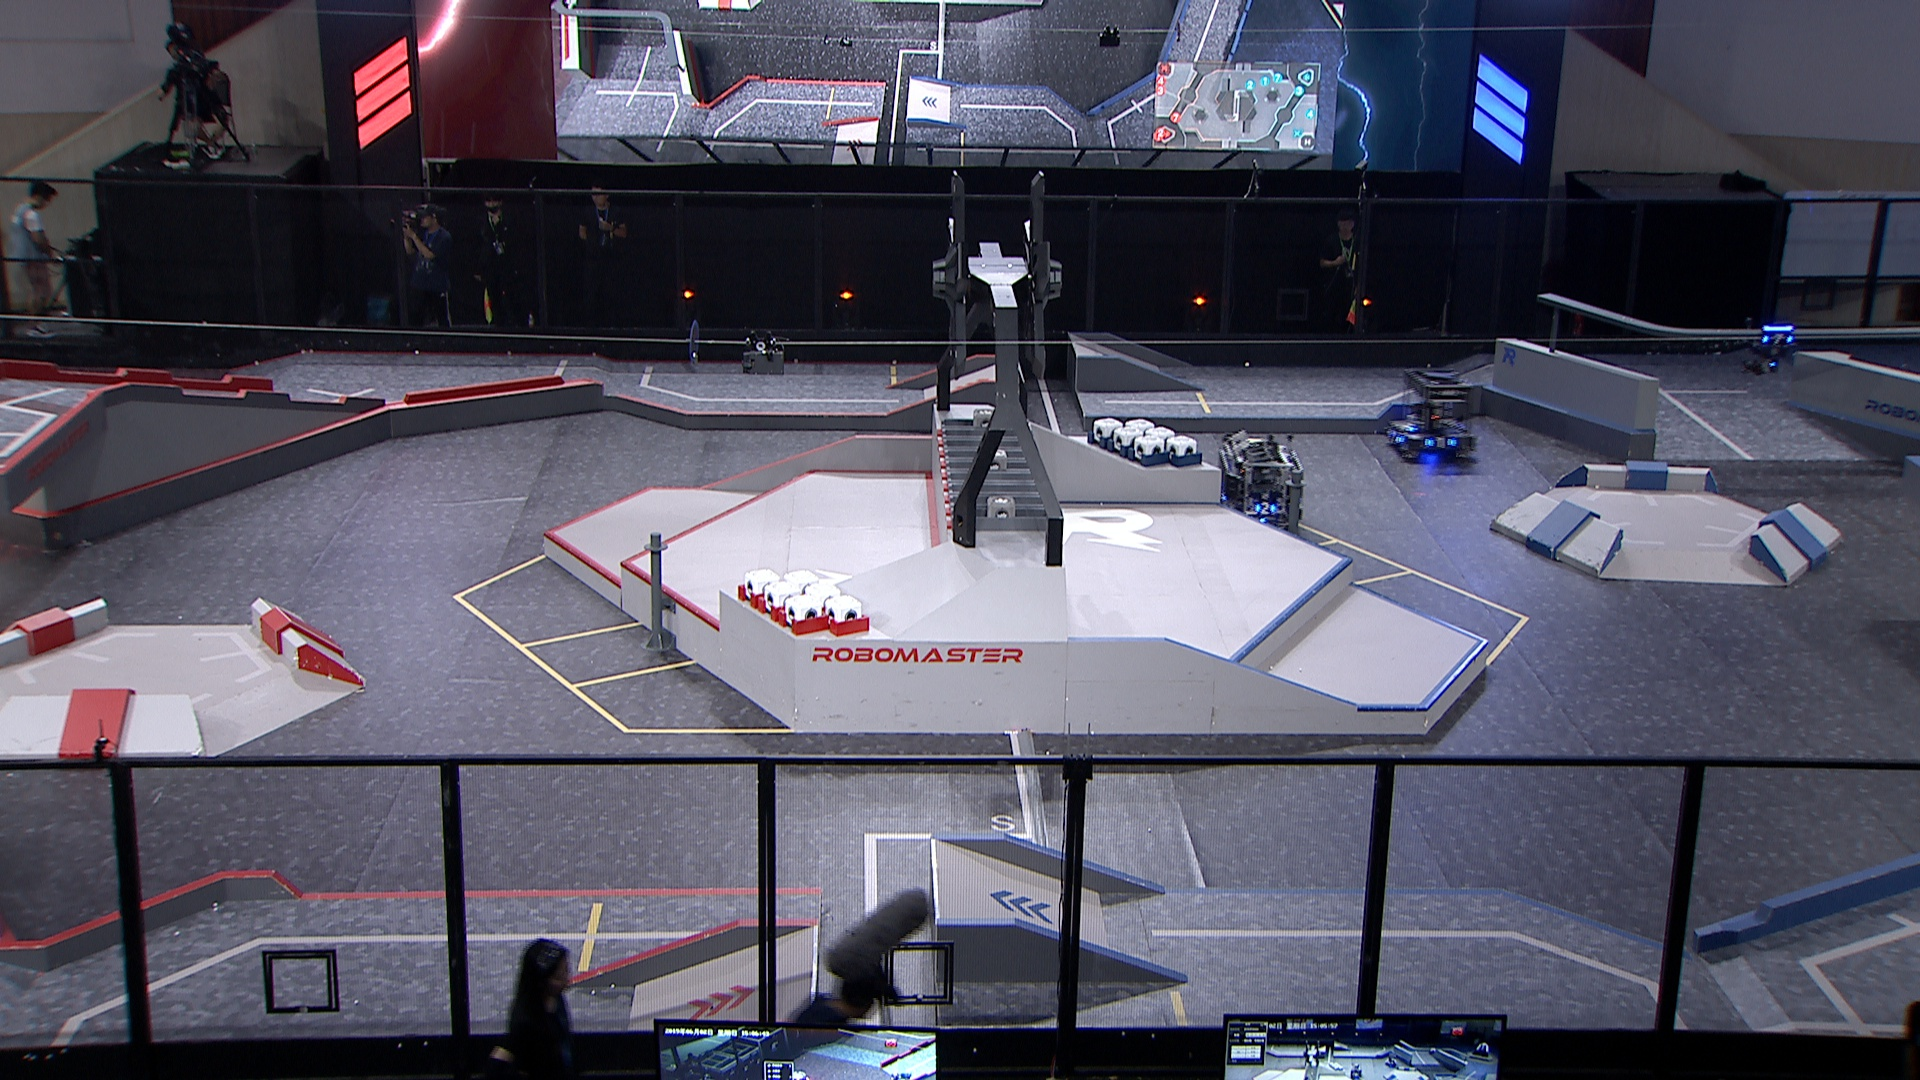armor: (1424, 436, 1458, 450), (1760, 332, 1793, 345), (1254, 501, 1276, 516), (1385, 429, 1404, 444)
car: (1378, 368, 1477, 462), (1216, 429, 1305, 527)
watcher: (1738, 318, 1793, 377)
